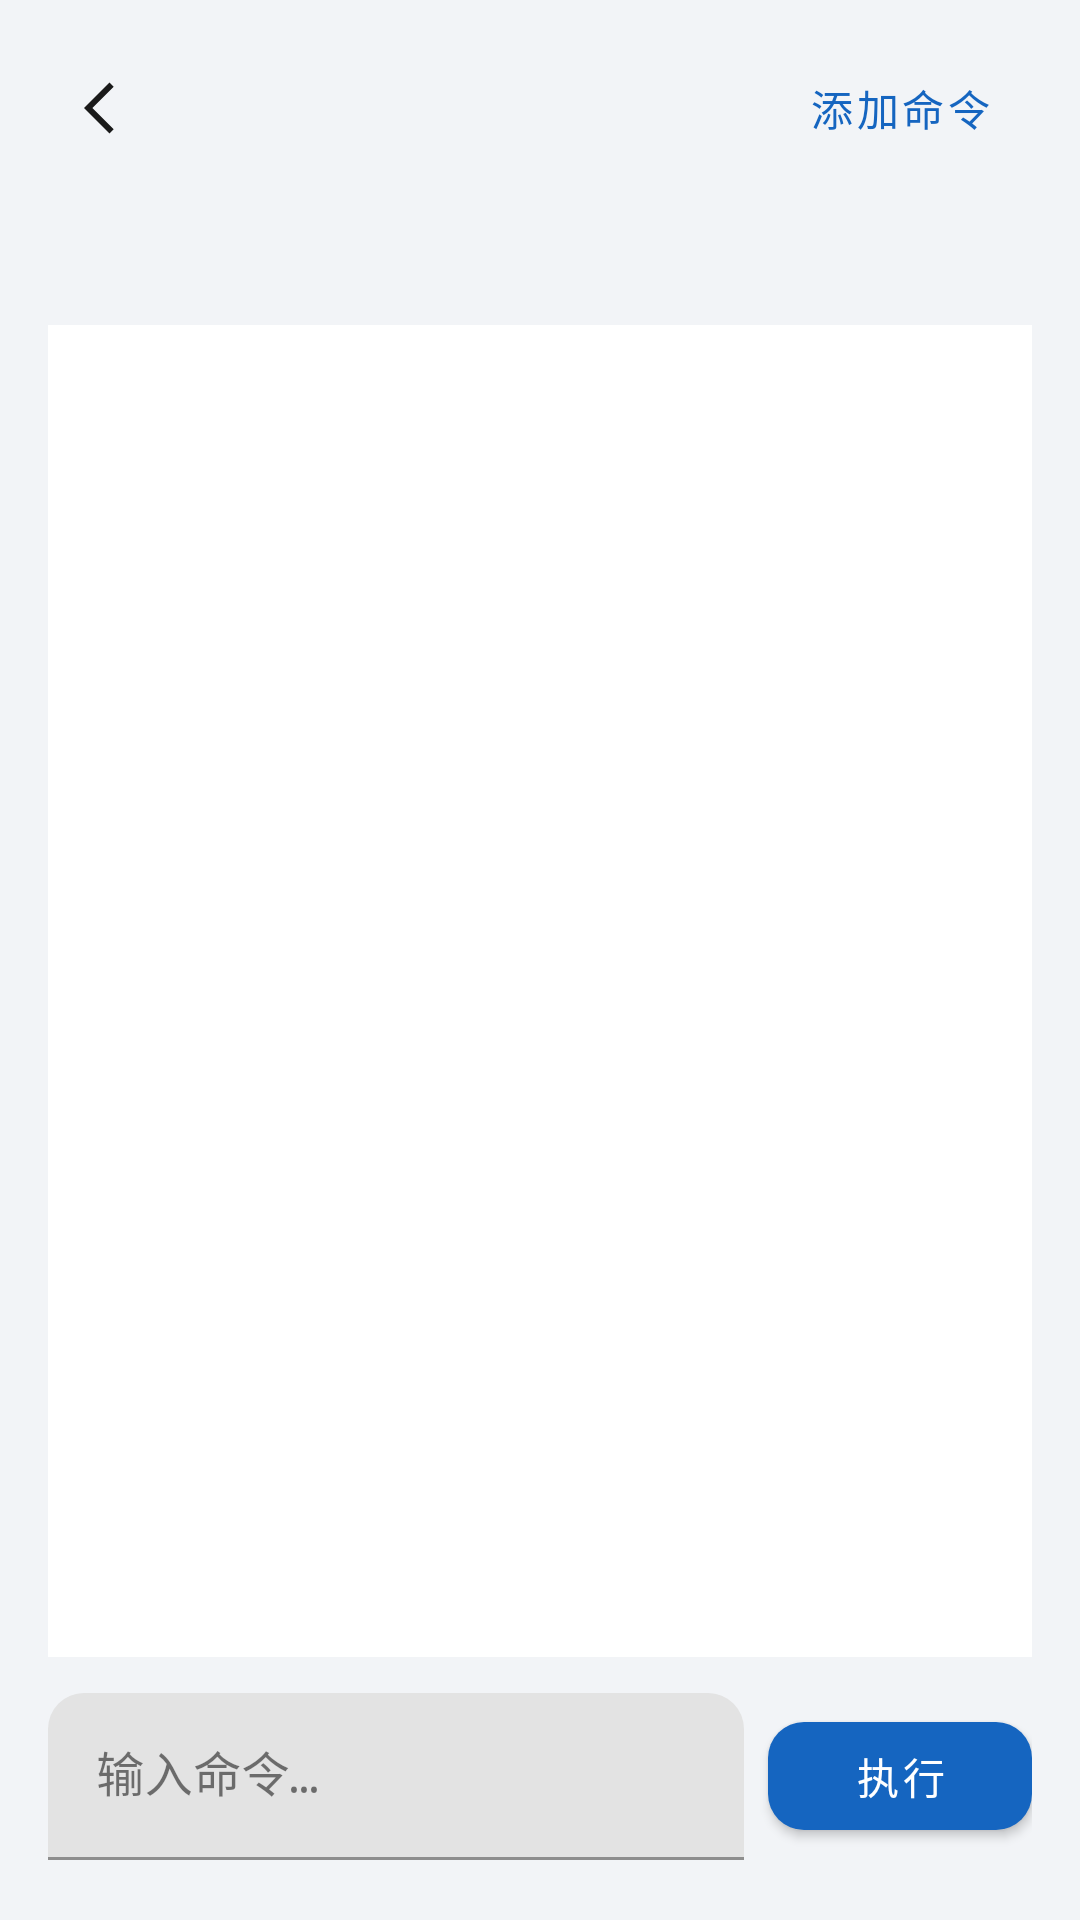

Named icons in this screenshot (1080px×1920px) and their bounding boxes, (x1, y1, x2, y2):
返回: (84, 82, 114, 134)
